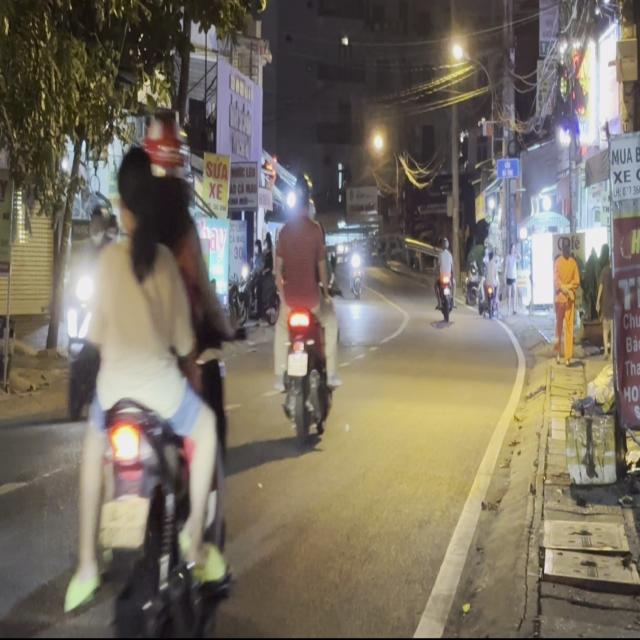helmet: (114, 140, 160, 246), (142, 118, 198, 190), (291, 174, 316, 219)
licenseplate: (59, 118, 237, 632), (270, 172, 340, 448)
nohelmet: (99, 495, 147, 546), (288, 354, 308, 378)
